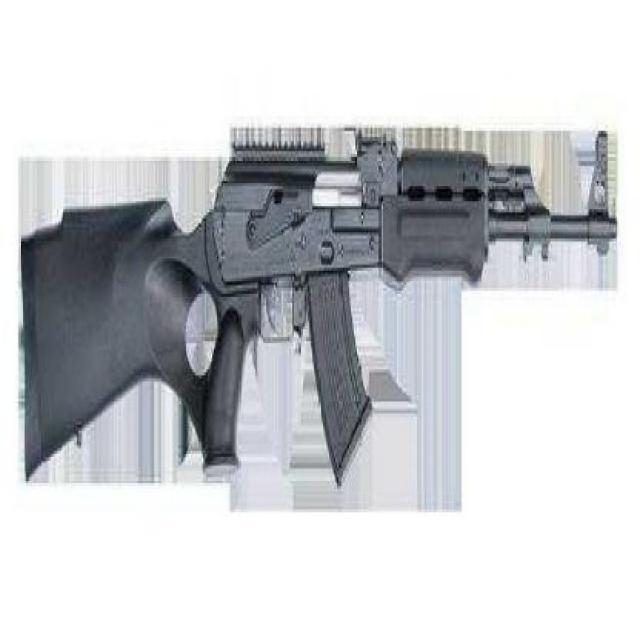weapon: (26, 128, 618, 500)
